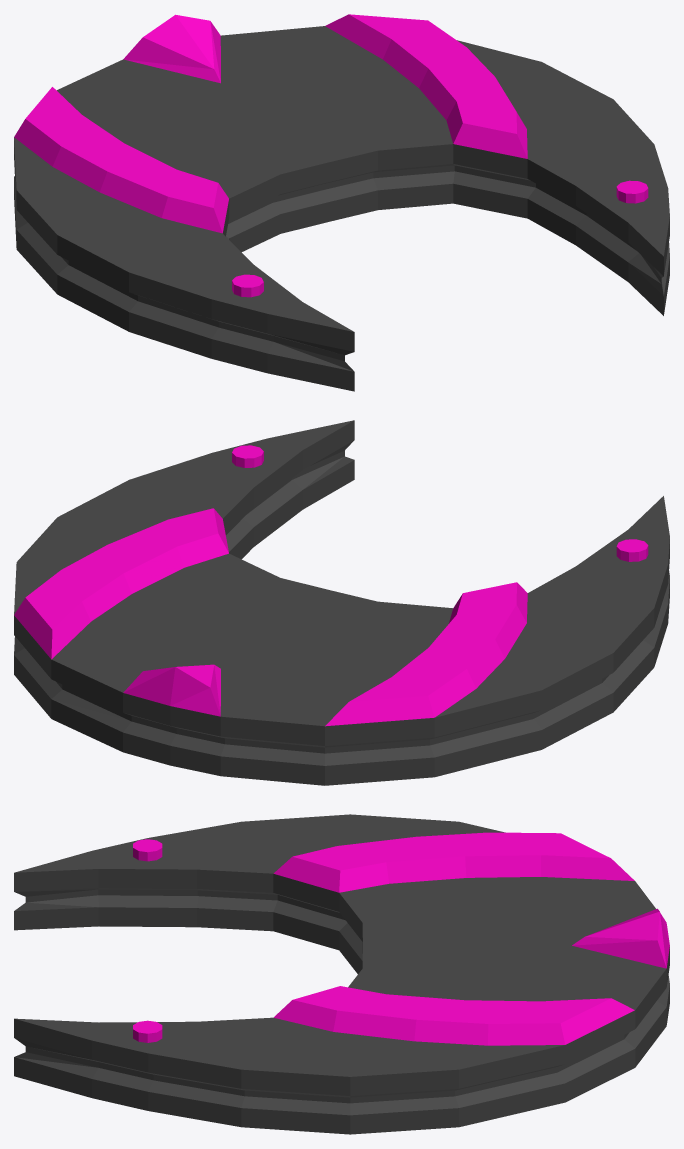
File: ShipPink.FBX
3 renders of one model, top to bottom at view 1: azimuth 30°, elevation 25°; view 2: azimuth 150°, elevation 25°; view 3: azimuth 270°, elevation 25°, orthographic. The views are drawn at different scales.
Parts seen in each view (by area): view 1: Cylinder003; view 2: Cylinder003; view 3: Cylinder003.
Boxes of the visible parts, <box> form: Cylinder003: <box>14,14,669,391</box>; Cylinder003: <box>14,420,669,785</box>; Cylinder003: <box>14,814,669,1134</box>.
Size of the model in its own units: 33.6 by 5.48 by 35.48.
